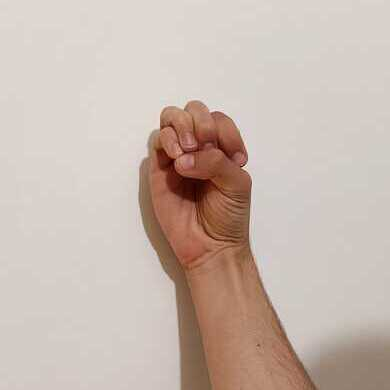E: (147, 98, 254, 270)
